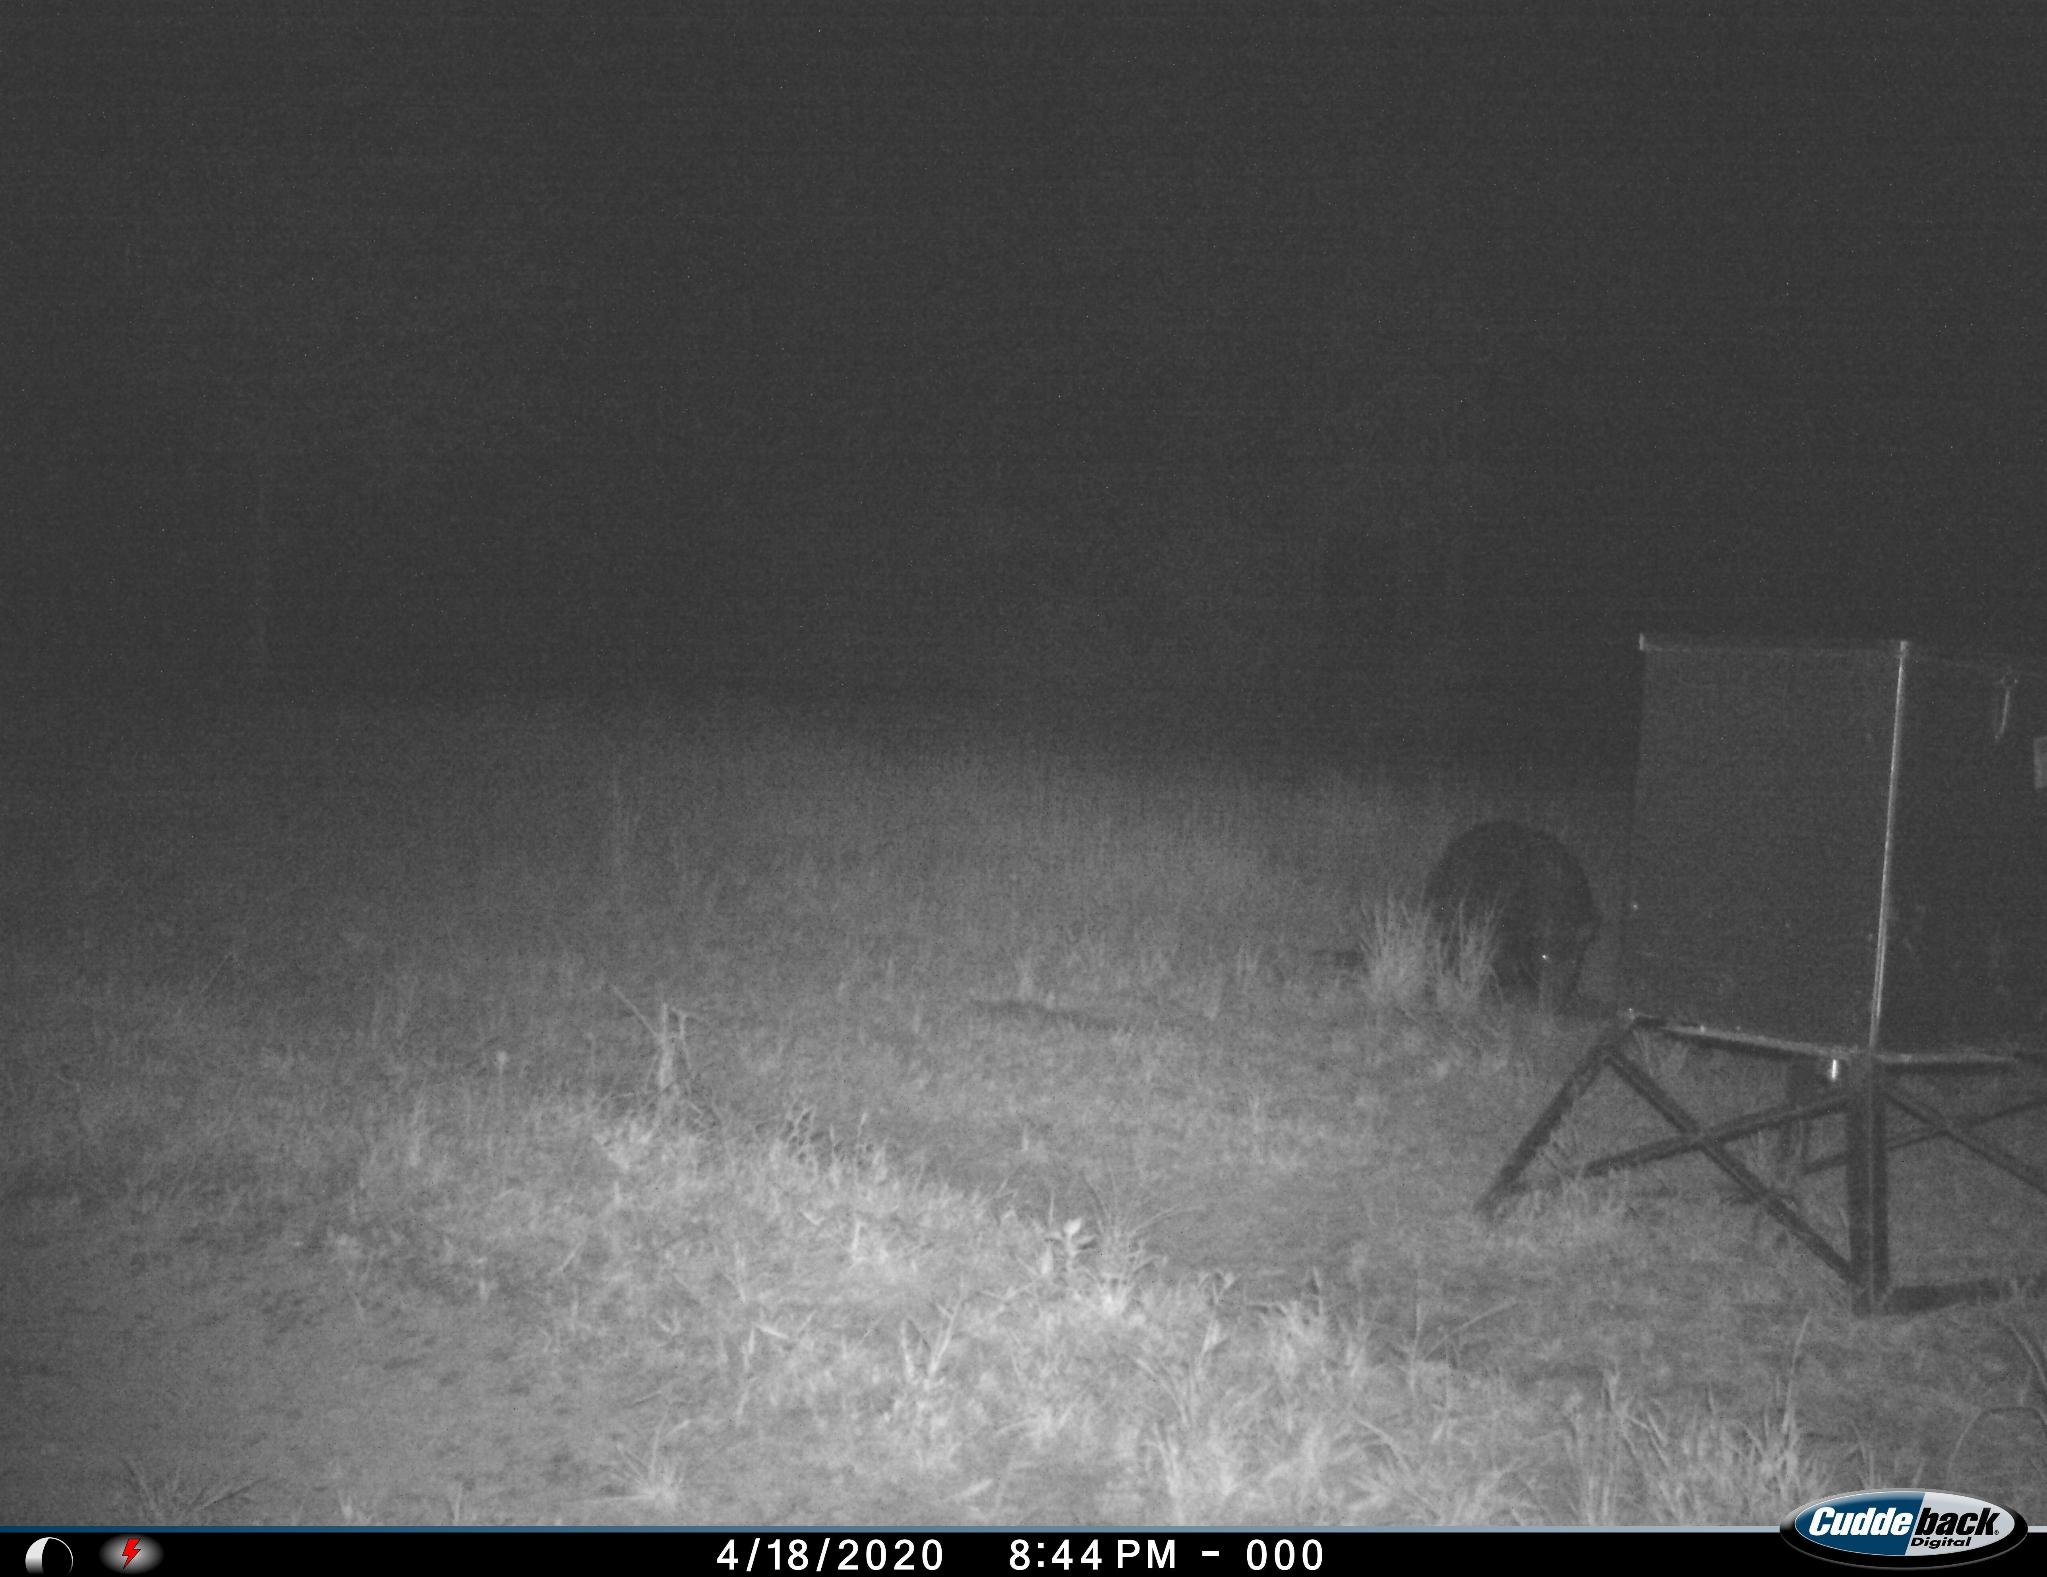Hog: (1416, 817, 1615, 1034)
